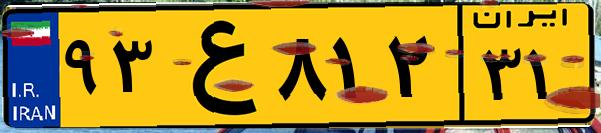1: (330, 28, 385, 110), (525, 38, 570, 115)
2: (385, 28, 445, 110)
3: (475, 38, 525, 113), (110, 28, 158, 98)
8: (270, 28, 330, 110)
9: (57, 26, 110, 100)
ع: (158, 12, 270, 120)
